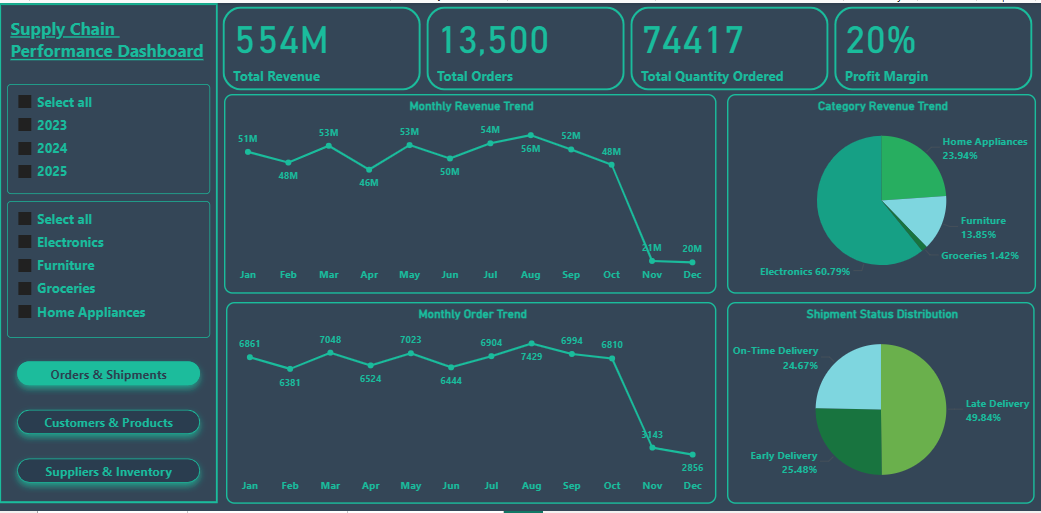

This screenshot's page, from the dashboard's own definition file:
{"tool":"powerbi","page":{"name":"Orders & Shipments","canvas":[1480,720],"ordinal":0},"visuals":[{"type":"shape","box":[0,0,310.4,709.1],"z":0},{"type":"cardVisual","fields":{"Data":["Table_measure.total_revenue","Table_measure.total_orders","Table_measure.total_quantity_ordered","Table_measure.profit_margin"]},"box":[310.4,0,1159.4,129],"z":1000},{"type":"textbox","box":[11.3,14.2,333.1,82.2],"z":2000},{"type":"slicer","fields":{"Values":["Calender_table.year"]},"box":[11.8,114.8,288.3,155.9],"z":3000},{"type":"lineChart","title":"Monthly Revenue Trend","fields":{"Category":["Calender_table.month_name"],"Y":["Sum(supply_chain orders.total_revenue)"]},"box":[318.5,129.4,729.3,282.9],"z":4000},{"type":"lineChart","title":"Monthly Order Trend","fields":{"Category":["Calender_table.month_name"],"Y":["Sum(supply_chain orders.quantity)"]},"box":[320.3,423.8,728.5,286.3],"z":5000},{"type":"pieChart","title":"Category Revenue Trend","fields":{"Y":["Sum(supply_chain orders.total_revenue)"],"Category":["supply_chain products.category"]},"box":[1058.7,129,411,283.5],"z":6000},{"type":"pieChart","title":"Shipment Status Distribution","fields":{"Category":["supply_chain shipments.delivery_status"],"Y":["CountNonNull(supply_chain shipments.shipment_id)"]},"box":[1058.7,423.8,409.6,286.3],"z":7000},{"type":"pageNavigator","box":[11.1,493.3,288,203.7],"z":8000},{"type":"slicer","fields":{"Values":["supply_chain products.category"]},"box":[11.8,281,288.3,194.2],"z":9000}]}

Visuals, with their boxes in screenshot pixels (x1, y1, x2, y2), scaled from the page's 1480x720 canvas onto the 1041x513 screenshot:
shape: 0, 0, 218, 505
cardVisual - Table_measure.total_revenue x Table_measure.total_orders: 218, 0, 1034, 92
textbox: 8, 10, 242, 69
slicer - Calender_table.year: 8, 82, 211, 193
"Monthly Revenue Trend" lineChart: 224, 92, 737, 294
"Monthly Order Trend" lineChart: 225, 302, 738, 506
"Category Revenue Trend" pieChart: 745, 92, 1034, 294
"Shipment Status Distribution" pieChart: 745, 302, 1033, 506
pageNavigator: 8, 351, 210, 497
slicer - supply_chain products.category: 8, 200, 211, 339
